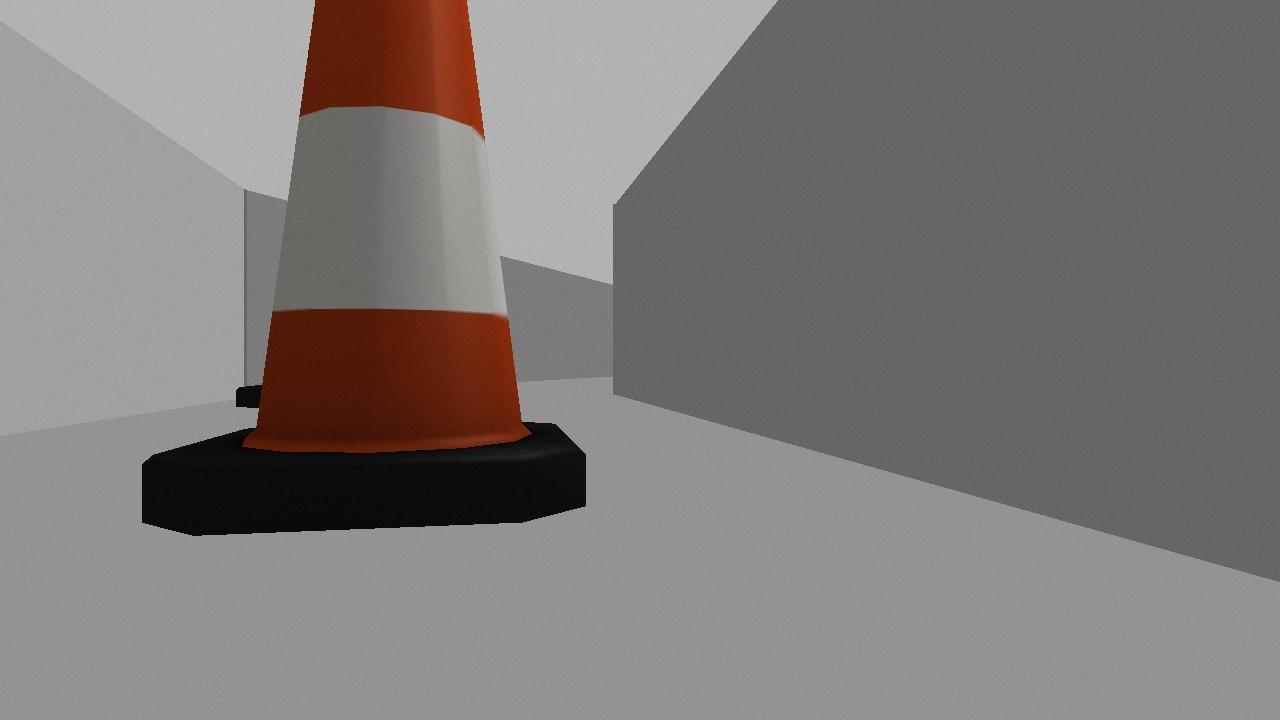cone_barrel: (116, 0, 606, 554)
